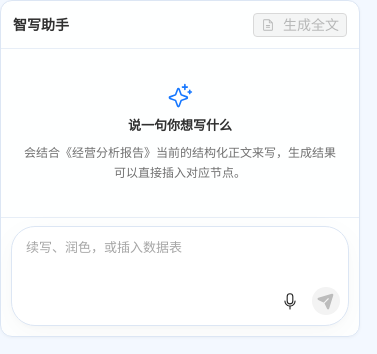
Test: WritingChatPanel › 终端错误就地显示原因，不静默失败
The width and height of the screenshot is (377, 354).
Type "帮我拟一版开头" into the text box at (180,255), box [12,227,348,283]
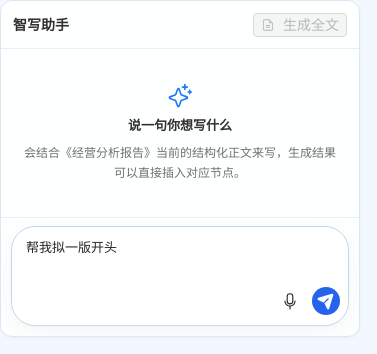
Press Enter
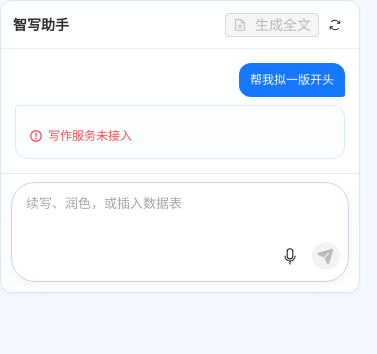
Expected: the message reads "写作服务未接入", [48,128,132,143]
